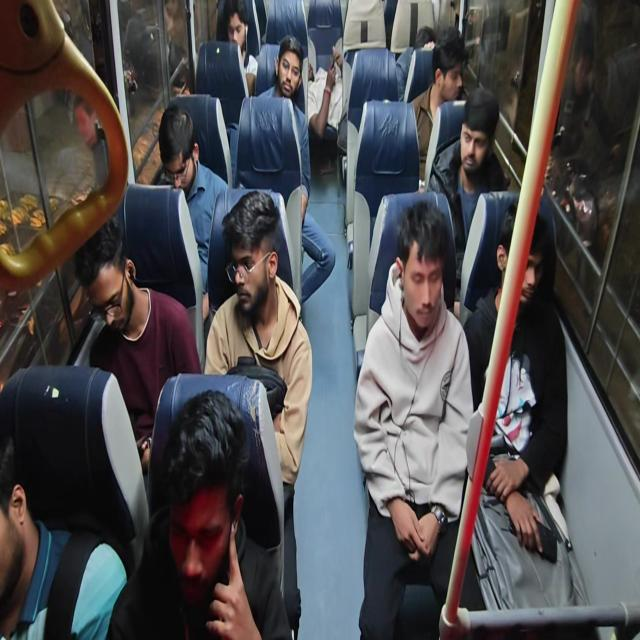person: (353, 200, 481, 638), (461, 202, 590, 612), (203, 189, 313, 636), (105, 388, 293, 639), (0, 364, 142, 639), (73, 213, 202, 474), (258, 35, 337, 304), (426, 87, 510, 294), (156, 103, 229, 313), (258, 34, 342, 140), (409, 26, 466, 180), (49, 94, 108, 204), (216, 0, 258, 97), (306, 44, 344, 140), (396, 25, 436, 101)
